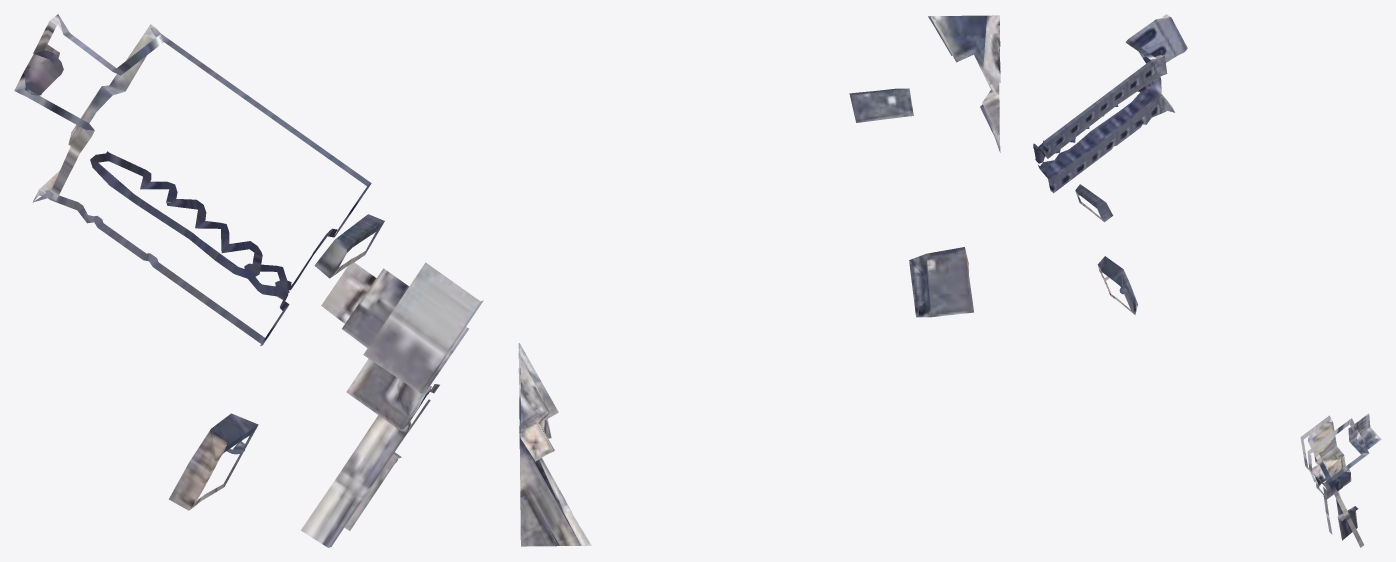
3 renders of one model, left to right at view 1: azimuth 30°, elevation 25°; view 2: azimuth 150°, elevation 25°; view 3: azimuth 270°, elevation 25°, orthographic. The views are drawn at different scales.
Bounding box in the file's own units: 68.71 × 84.4 × 65.7.
1 material, 1 textured.
